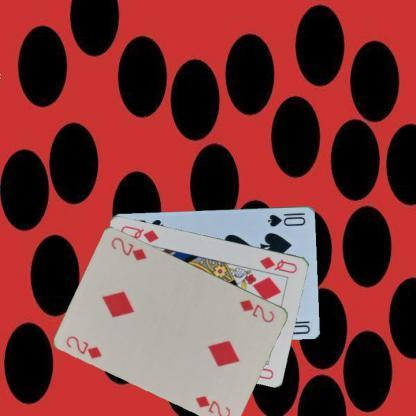10s: (265, 209, 307, 228)
2d: (64, 333, 104, 360), (238, 297, 276, 324)
Qd: (257, 254, 299, 274)
